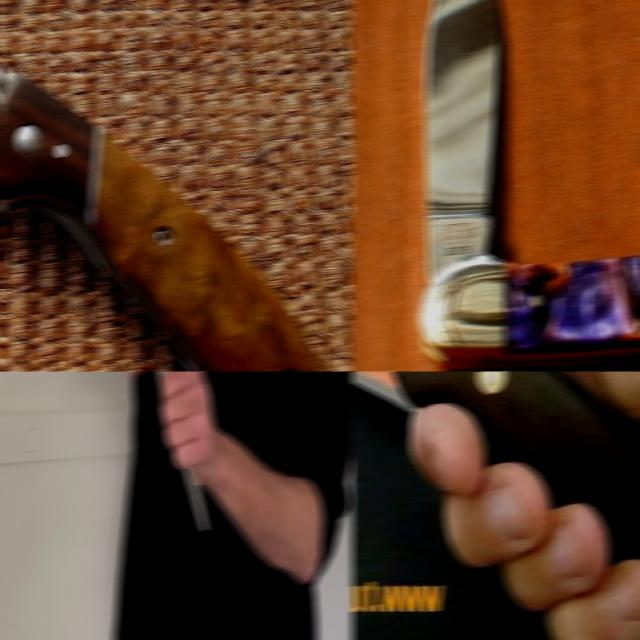Knife: (392, 371, 640, 559)
Knife_Handle: (115, 371, 208, 532), (115, 371, 213, 480)
